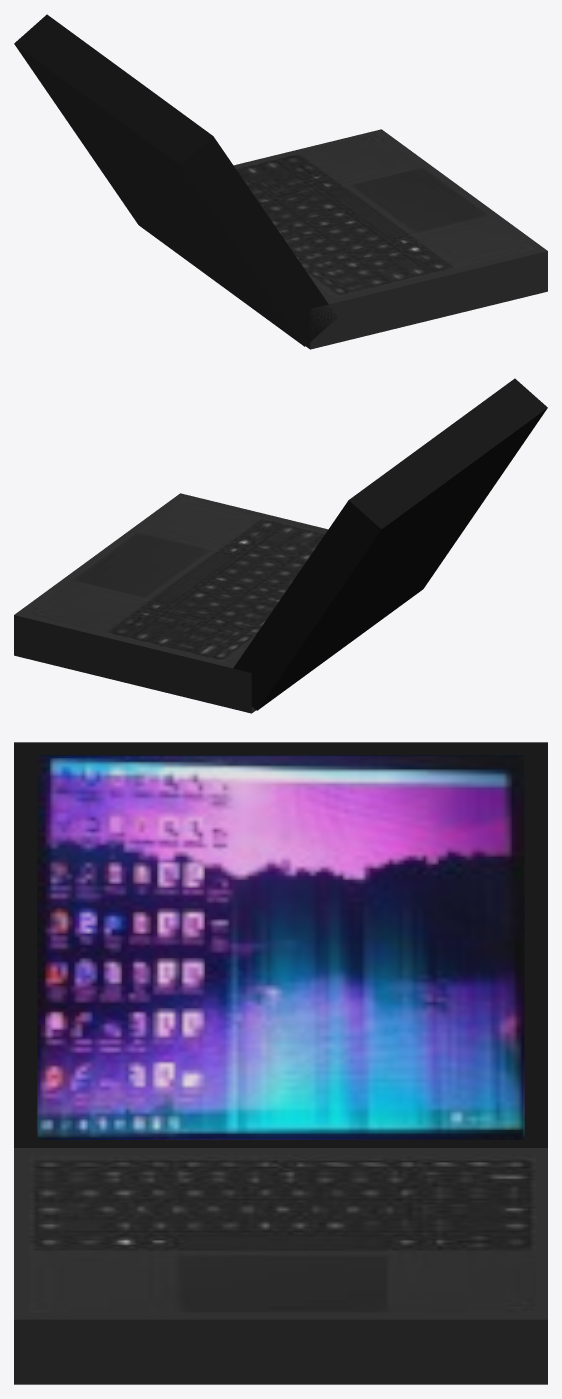
File: Laptop.fbx
The picture shows the model from 3 angles, top to bottom: view 1: azimuth 30°, elevation 25°; view 2: azimuth 150°, elevation 25°; view 3: azimuth 270°, elevation 25°; orthographic projection. The views are drawn at different scales.
Visible parts, largest first — view 1: Cube.001, Plane, Cube; view 2: Cube.001, Plane, Cube; view 3: HomeScreen, Plane, Cube, Cube.001.
Boxes of the visible parts, box(x1,y1,x2,y2) form: Cube.001: box(14, 14, 336, 346); Plane: box(235, 133, 534, 298); Cube: box(233, 129, 547, 349); Cube.001: box(233, 378, 547, 710); Plane: box(26, 498, 325, 663); Cube: box(14, 493, 328, 713); HomeScreen: box(37, 755, 524, 1139); Plane: box(29, 1154, 536, 1312); Cube: box(14, 1148, 547, 1384); Cube.001: box(14, 742, 547, 1147).
Size of the model in its own units: 255 by 157 by 200.
Materials: 5 (3 with a texture image).
